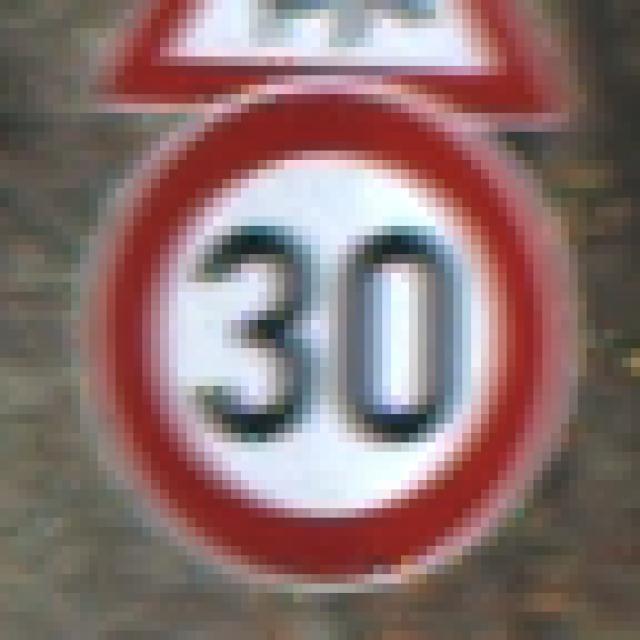Speed Limit -30-: (53, 52, 569, 579)
